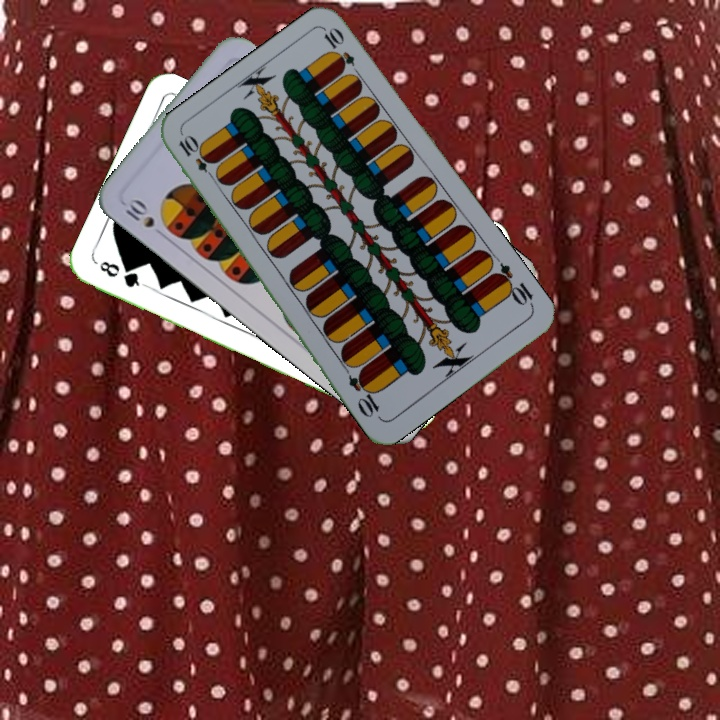E10: (488, 259, 537, 310), (174, 131, 220, 184)
G8: (95, 257, 148, 290)
S10: (120, 194, 169, 241)
